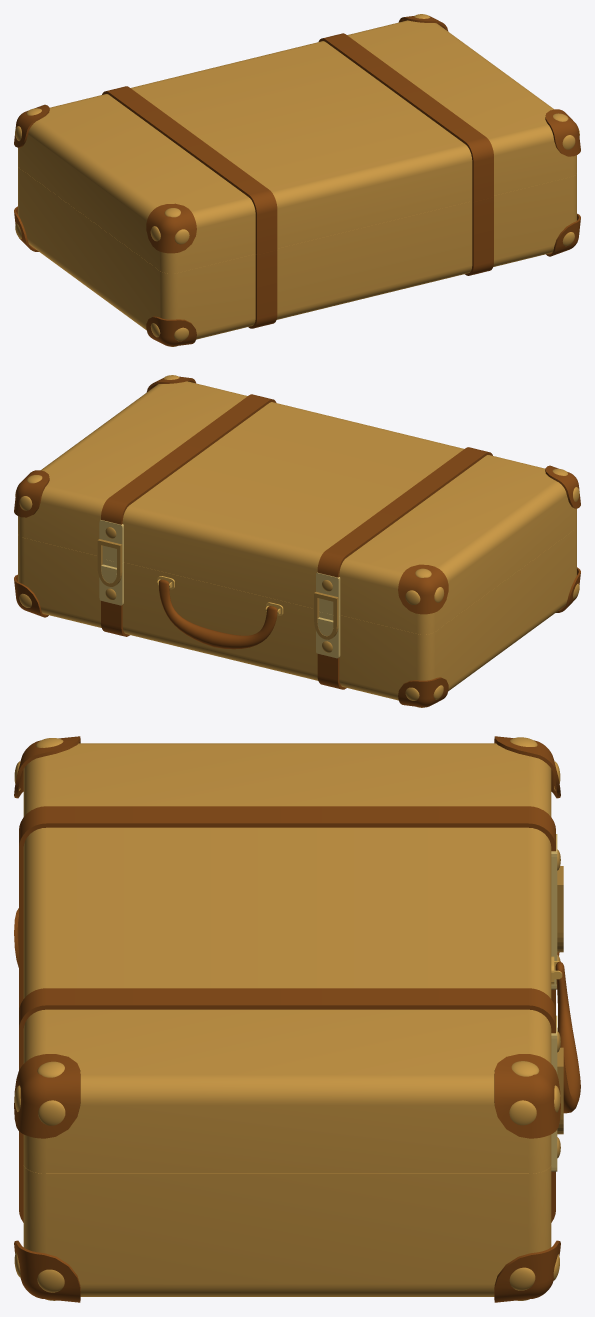
The model's file is suitcase.gltf.
3 views of the same model, one above another, from view 1: azimuth 30°, elevation 25°; view 2: azimuth 150°, elevation 25°; view 3: azimuth 270°, elevation 25° (orthographic). The views are drawn at different scales.
Visible parts, largest first — view 1: suitcase top, suitcase bottom, corner.003, corner.005, corner.004, corner.001, corner.006; view 2: suitcase top, suitcase bottom, handle, corner.001, corner.007, corner.002, clasp base top, clasp base top.001, clasp.001, clasp, corner.003, clasp base bottom (+2 smaller); view 3: suitcase top, suitcase bottom, corner.002, corner.004, corner.008, corner.006, handle, corner.001, corner.003.
Part boxes in pixels (bbox=[...]): suitcase top: bbox=[18, 20, 576, 273]; suitcase bottom: bbox=[18, 166, 576, 339]; corner.003: bbox=[146, 203, 196, 253]; corner.005: bbox=[146, 316, 196, 346]; corner.004: bbox=[545, 109, 580, 156]; corner.001: bbox=[14, 104, 49, 147]; corner.006: bbox=[546, 213, 580, 256]; suitcase top: bbox=[18, 381, 576, 634]; suitcase bottom: bbox=[18, 527, 576, 700]; handle: bbox=[159, 579, 277, 649]; corner.001: bbox=[398, 564, 448, 614]; corner.007: bbox=[398, 677, 448, 707]; corner.002: bbox=[14, 470, 49, 517]; clasp base top: bbox=[316, 572, 340, 615]; clasp base top.001: bbox=[99, 520, 123, 563]; clasp.001: bbox=[97, 539, 122, 586]; clasp: bbox=[314, 592, 338, 639]; corner.003: bbox=[545, 465, 580, 508]; clasp base bottom: bbox=[316, 612, 340, 658]; suitcase top: bbox=[19, 743, 555, 1173]; suitcase bottom: bbox=[19, 917, 555, 1296]; corner.002: bbox=[494, 1054, 560, 1138]; corner.004: bbox=[14, 1054, 80, 1138]; corner.008: bbox=[494, 1240, 560, 1302]; corner.006: bbox=[14, 1240, 80, 1302]; handle: bbox=[555, 961, 580, 1113]; corner.001: bbox=[494, 736, 560, 798]; corner.003: bbox=[14, 736, 80, 798].
Size of the model in its own units: 8.94 by 2.76 by 6.
